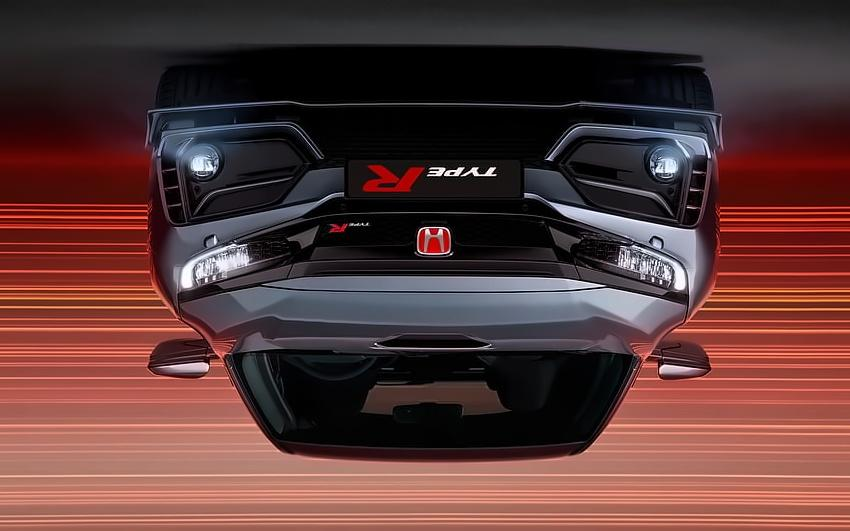Car hood: (170, 273, 692, 354)
Front bumper: (149, 91, 721, 257)
Headlight - -L-: (175, 236, 299, 296)
Headlight - -R-: (615, 238, 692, 308)
Side mirror - -L-: (146, 337, 226, 384)
Side mirror - -R-: (646, 344, 712, 385)
